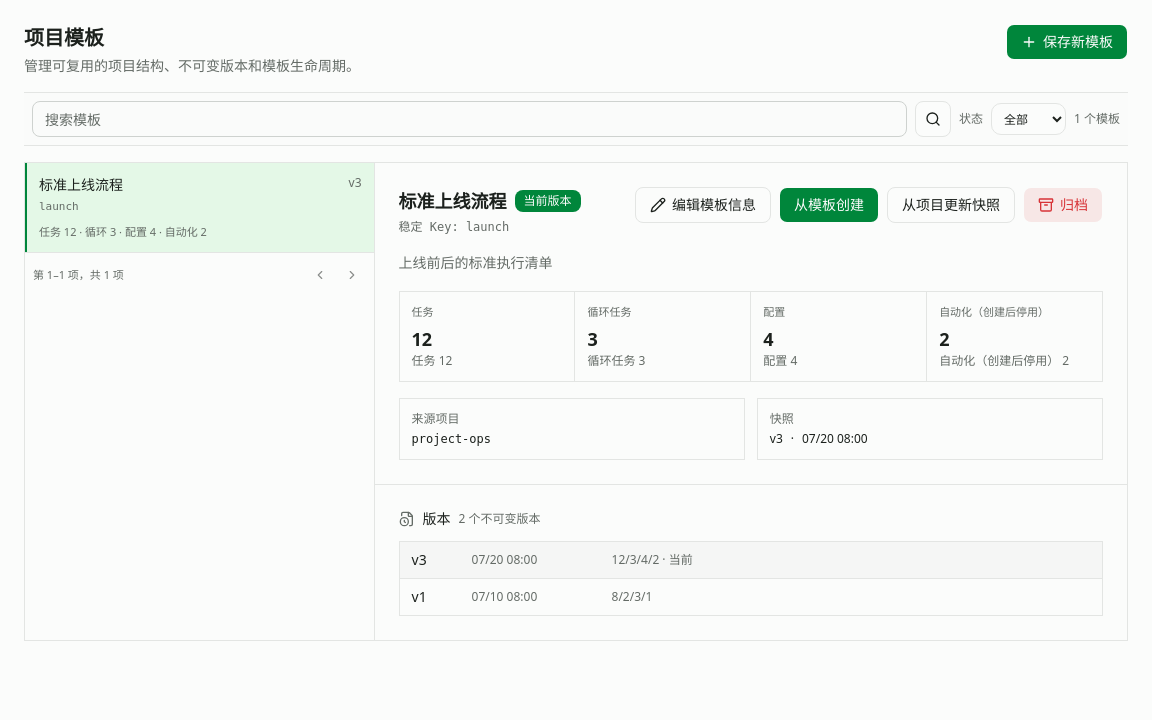
Test: ProjectTemplateLibraryPage › selects a source project before opening the shared snapshot wizard
Click the button "从项目更新快照": (951, 205) [887, 187, 1015, 223]
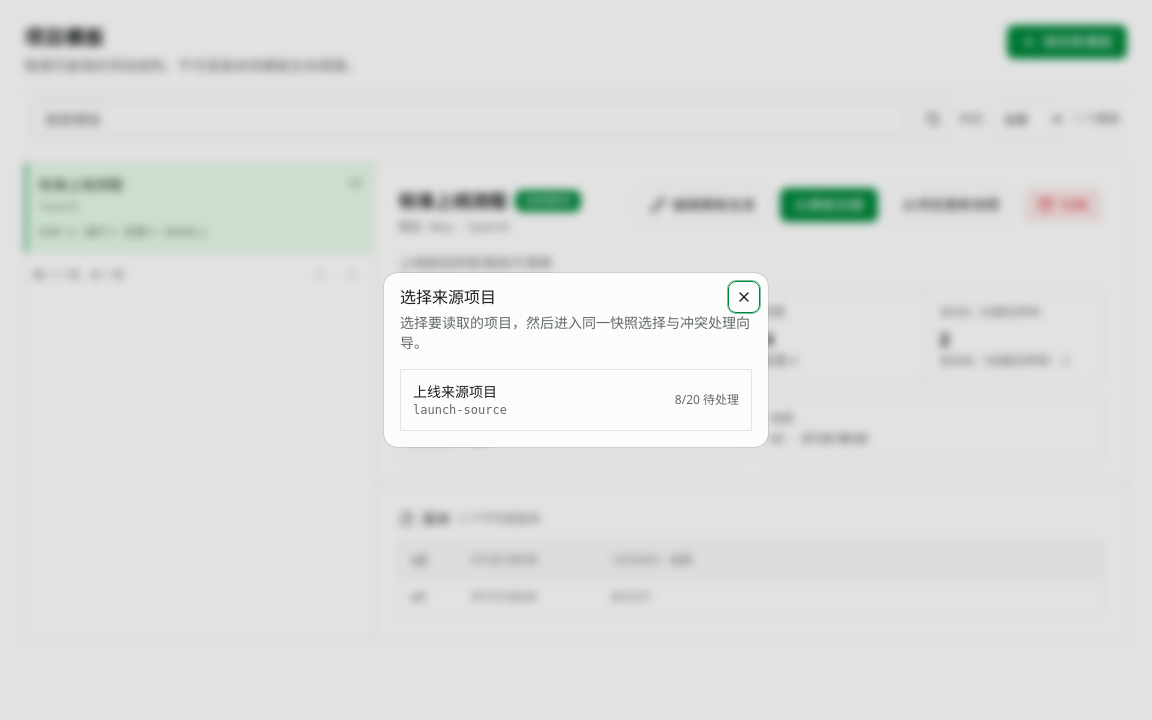
Now the dialog "选择来源项目" is shown, box [384, 273, 768, 447]
Click the button "上线来源项目 launch-source 8/20 待处理": (455, 392) [401, 370, 751, 430]
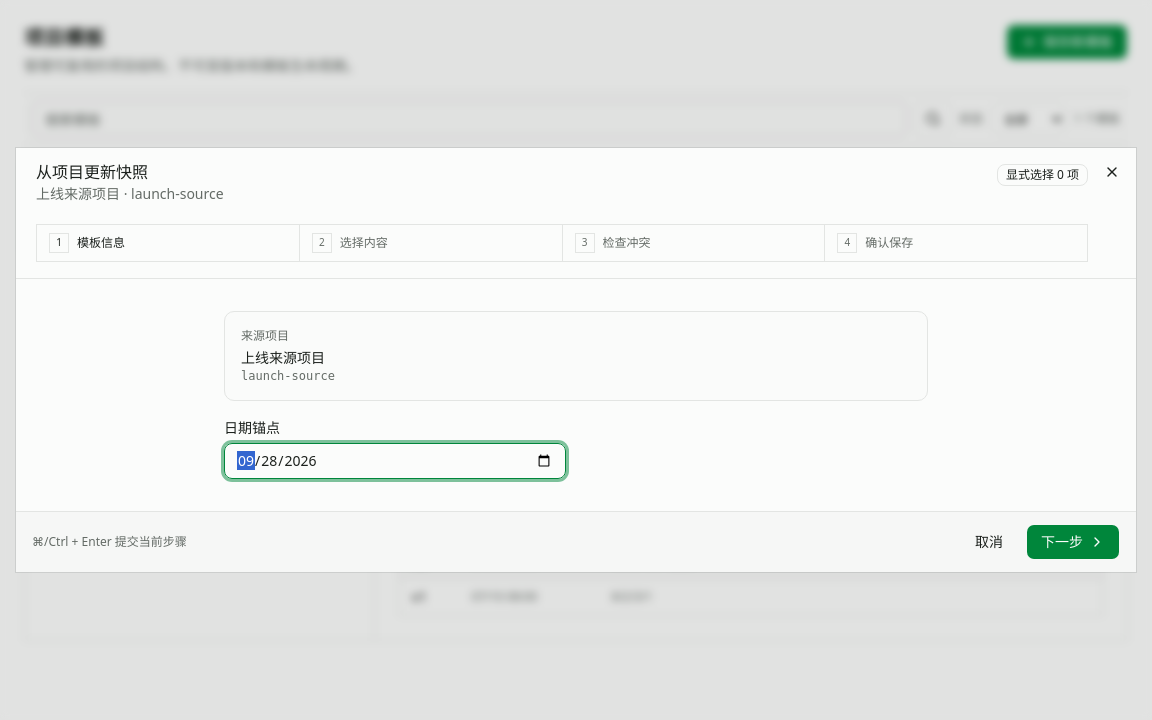
Now the dialog "从项目更新快照" is shown, box [16, 148, 1136, 572]
Now the text "上线来源项目 · launch-source" is shown, box [36, 184, 224, 204]
